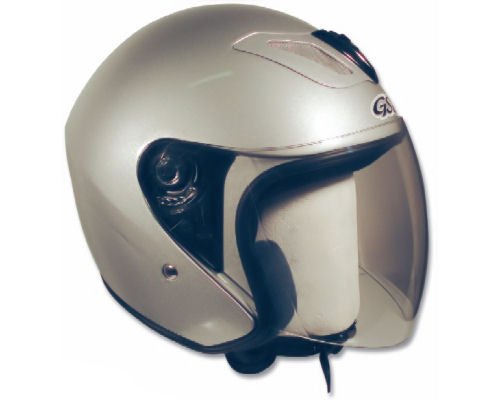helmet: (54, 15, 429, 370)
